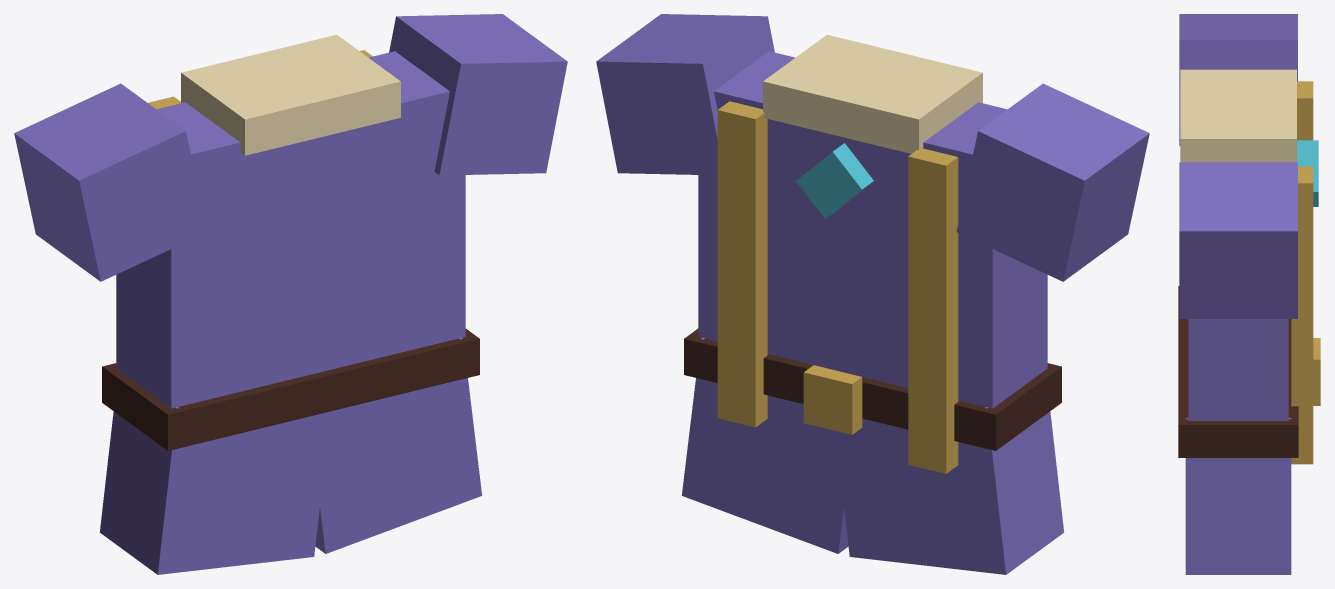
Rendered from woven_robes.glb.
3 views of the same model, side by side, from view 1: azimuth 30°, elevation 25°; view 2: azimuth 150°, elevation 25°; view 3: azimuth 270°, elevation 25° (orthographic). The views are drawn at different scales.
Visible parts, largest first — view 1: woven_robes; view 2: woven_robes; view 3: woven_robes.
Boxes of the visible parts, x1,y1,x2,y2 form: woven_robes: (14,14,567,574); woven_robes: (596,14,1149,574); woven_robes: (1178,14,1320,574).
Bounding box in the file's own units: 2.82 × 2.54 × 0.78.
